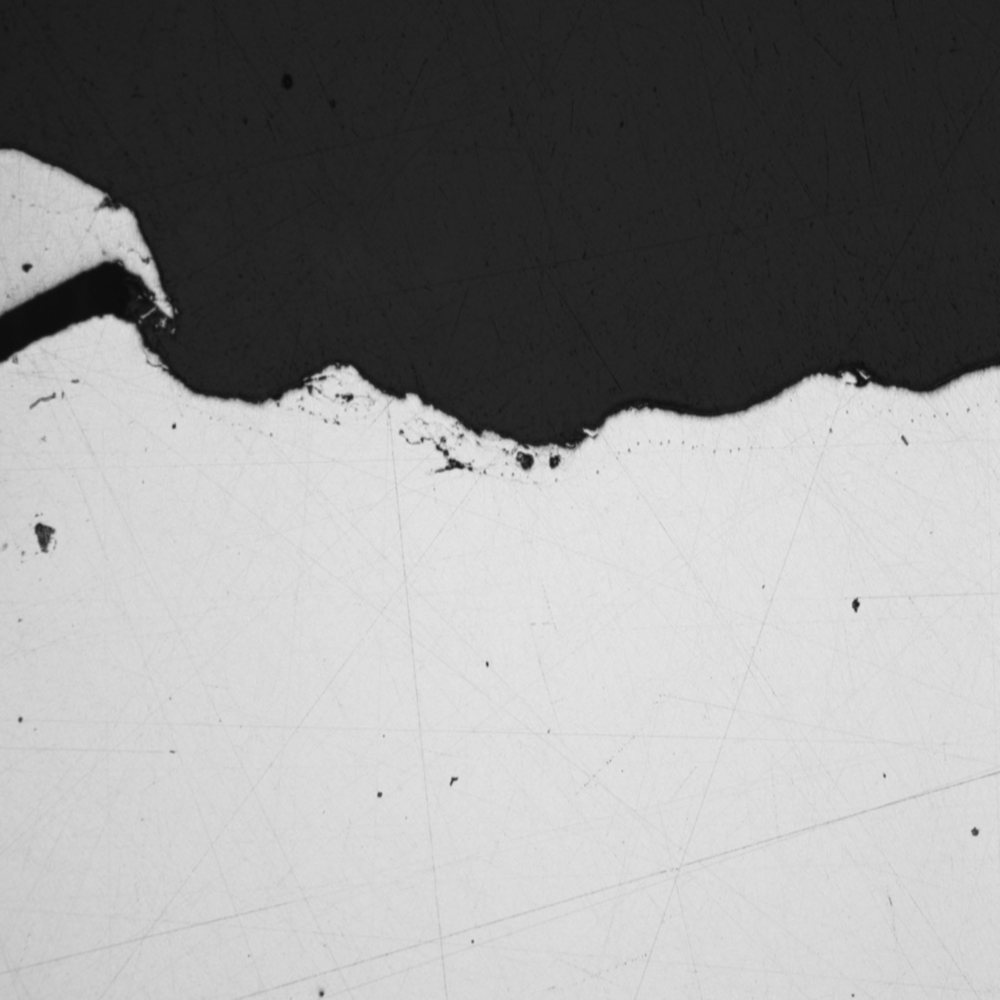crack: (1, 243, 204, 412)
